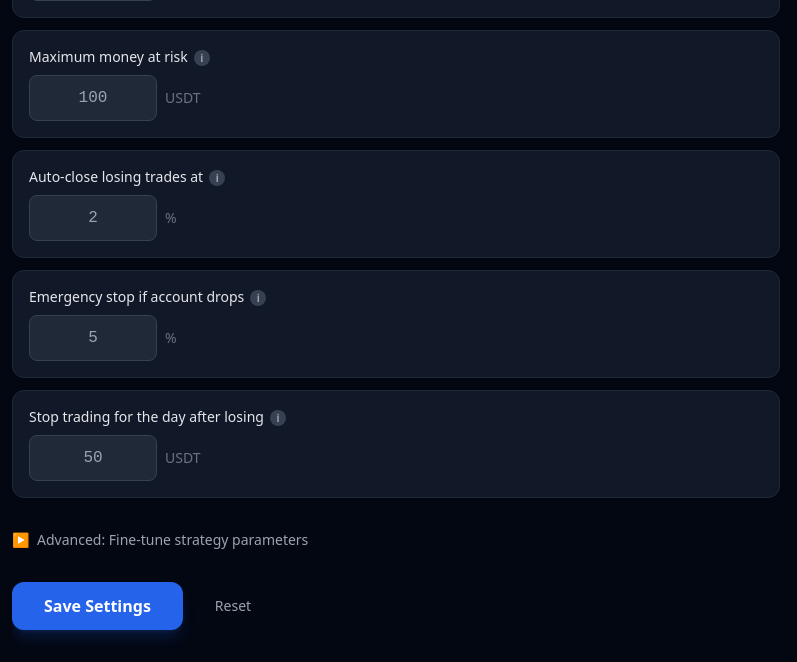
Test case: SettingsPage › shows error toast when save fails
This screenshot has width=797, height=662.
(page scrolled)
Click the button with test id "save-button".
click(97, 606)  # box [12,582,183,630]
(page scrolled)
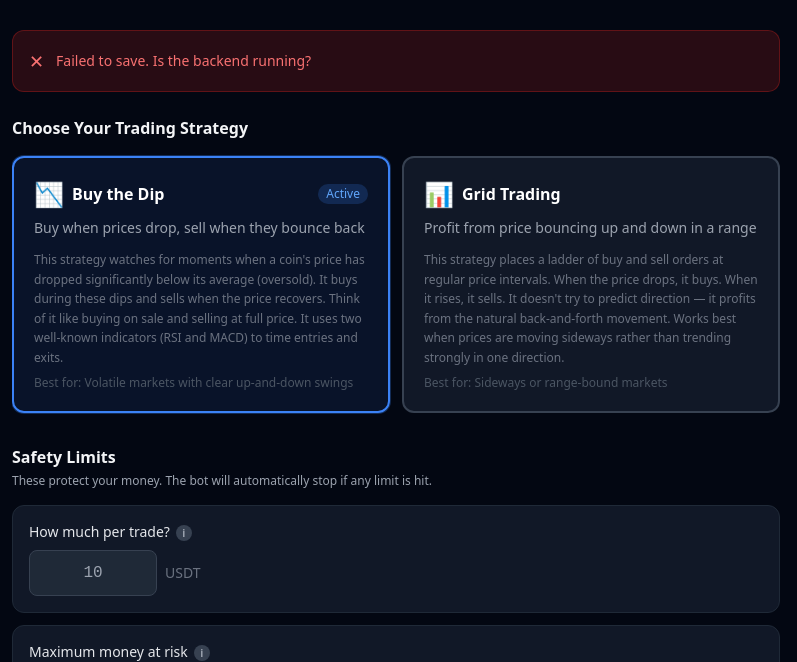
Result: the element with test id "toast-error" is shown at [12,30,780,92]
Result: the element with test id "toast-error" shows "Failed" at [56,51,311,70]
